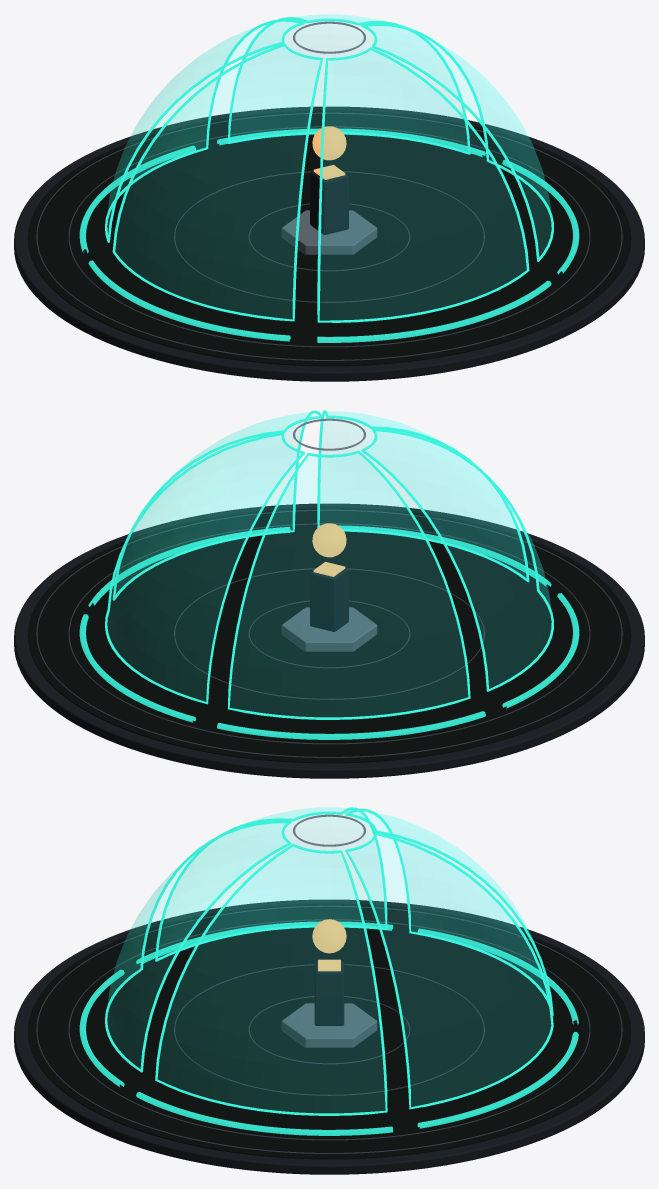
The model's file is aegis.glb.
3 views of the same model, one above another, from view 1: azimuth 30°, elevation 25°; view 2: azimuth 150°, elevation 25°; view 3: azimuth 270°, elevation 25° (orthographic).
Parts seen in each view (by area): view 1: Aegis_Ground, Petal_00, Petal_01, Aegis_Plate, Petal_04, Petal_02, Petal_03, PetalRim_00, PetalRim_01, Aegis_HostBase, Aegis_Ring_3, Aegis_Host (+12 smaller); view 2: Aegis_Ground, Petal_02, Petal_03, Petal_01, Aegis_Plate, Aegis_HostBase, PetalRim_02, Petal_00, PetalRim_03, PetalRim_01, Aegis_Host, Aegis_Ring_3 (+12 smaller); view 3: Aegis_Ground, Petal_04, Petal_03, Aegis_Plate, Petal_00, Petal_01, Aegis_HostBase, PetalRim_04, PetalRim_03, Petal_02, PetalRim_00, Aegis_Ring_3 (+12 smaller).
Part boxes in pixels (<box>): Aegis_Ground: <box>27,110,631,366</box>; Petal_00: <box>320,50,526,319</box>; Petal_01: <box>115,46,319,318</box>; Aegis_Plate: <box>14,106,644,381</box>; Petal_04: <box>368,25,551,255</box>; Petal_02: <box>107,21,296,233</box>; Petal_03: <box>247,14,462,131</box>; PetalRim_00: <box>317,47,529,322</box>; PetalRim_01: <box>112,43,322,321</box>; Aegis_HostBase: <box>281,210,377,254</box>; Aegis_Ring_3: <box>36,112,622,360</box>; Aegis_Host: <box>310,171,348,234</box>; Aegis_Ground: <box>27,507,631,763</box>; Petal_02: <box>230,453,467,716</box>; Petal_03: <box>107,435,300,700</box>; Petal_01: <box>366,431,551,688</box>; Aegis_Plate: <box>14,503,644,778</box>; Aegis_HostBase: <box>281,607,377,651</box>; PetalRim_02: <box>227,450,470,719</box>; Petal_00: <box>322,411,440,540</box>; PetalRim_03: <box>105,432,304,704</box>; PetalRim_01: <box>361,428,553,691</box>; Aegis_Host: <box>310,568,348,631</box>; Aegis_Ring_3: <box>36,509,622,757</box>; Aegis_Ground: <box>27,903,631,1159</box>; Petal_04: <box>158,846,384,1112</box>; Petal_03: <box>349,835,551,1106</box>; Aegis_Plate: <box>14,899,644,1174</box>; Petal_00: <box>107,823,286,1067</box>; Petal_01: <box>184,807,377,946</box>; Aegis_HostBase: <box>281,1003,377,1047</box>; PetalRim_04: <box>155,843,387,1115</box>; PetalRim_03: <box>345,832,553,1109</box>; Petal_02: <box>351,811,539,962</box>; PetalRim_00: <box>105,820,291,1072</box>; Aegis_Ring_3: <box>36,905,622,1153</box>.
Size of the model in its own units: 5.5 by 2.05 by 5.5.
